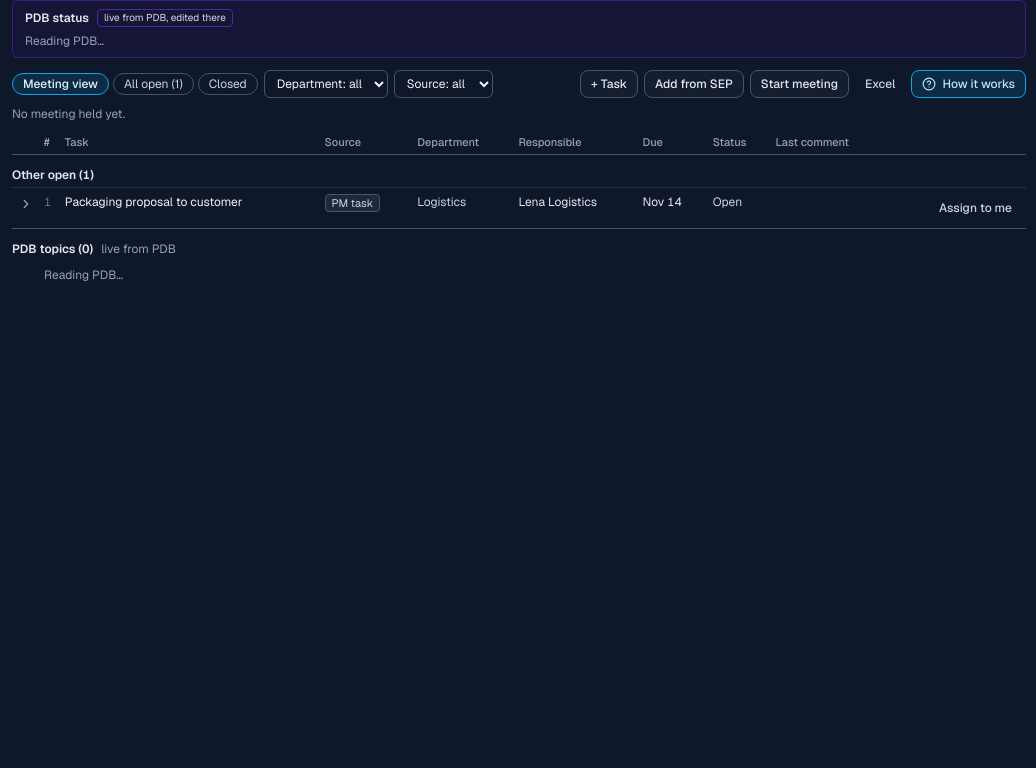
Test: LOP equipment › a new task is linked to a gauge without a hint, and to a tool with the PDB hint
Later steps or results of the test are not shown.
Click the button "+ Task". click: (609, 84)
box: [580, 70, 638, 98]
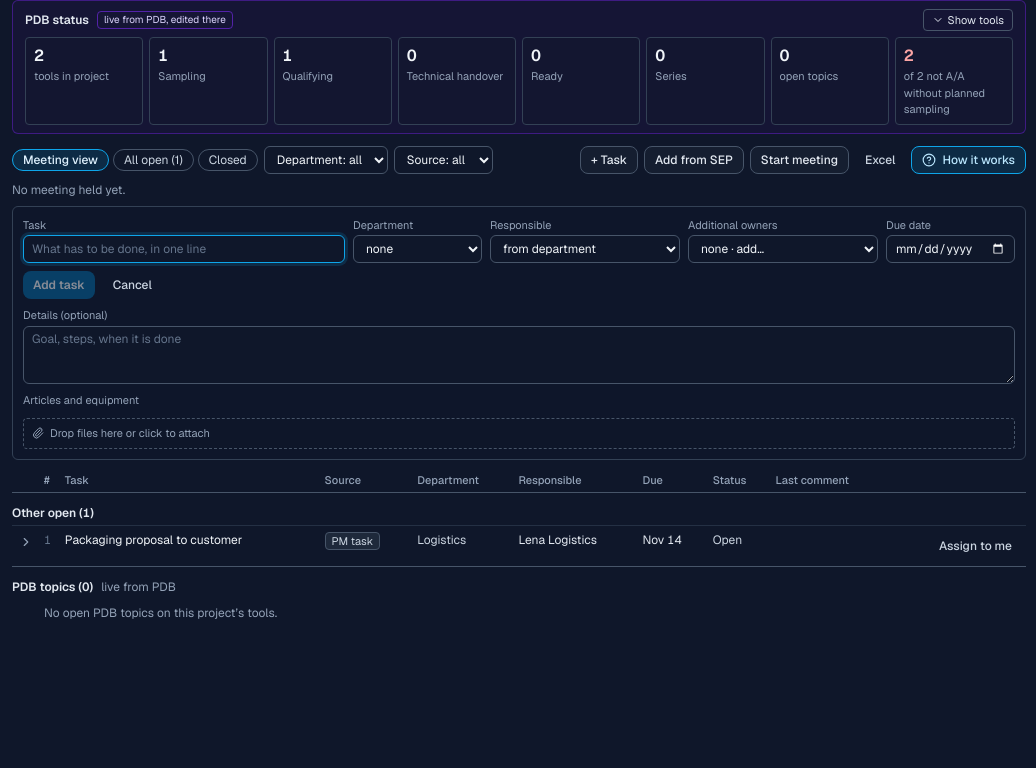
Type "Gauge R&R" into the field labelled "Task". click: (184, 249)
box: [23, 235, 345, 263]
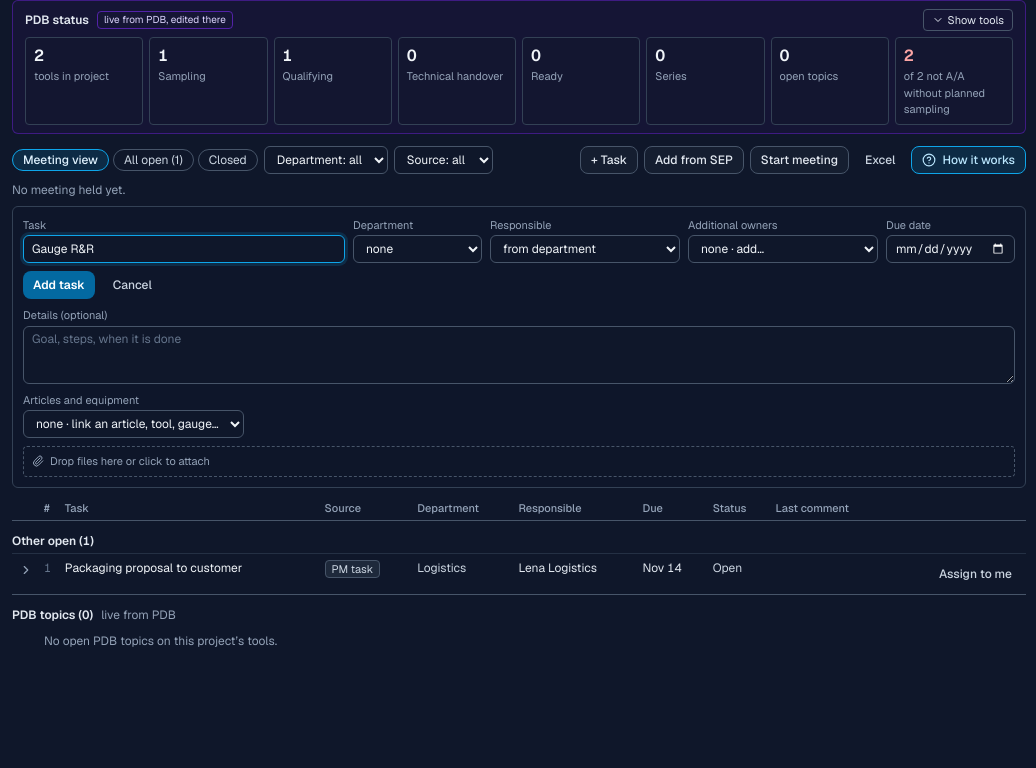
Select "3345-40 · Gauge UBV Mitte" in the dropdown named "Link equipment". click: (134, 424)
box: [23, 410, 244, 438]
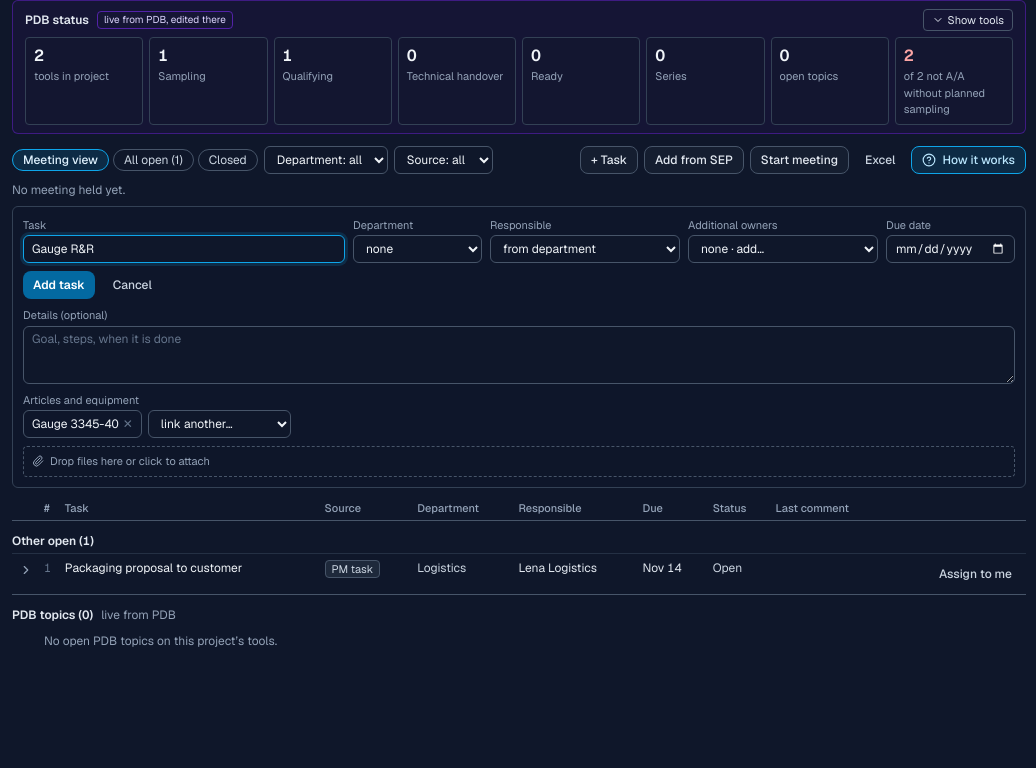
Select "3345 · UBV Mitte" in the dropdown named "Link equipment". click: (219, 424)
box: [148, 410, 291, 438]
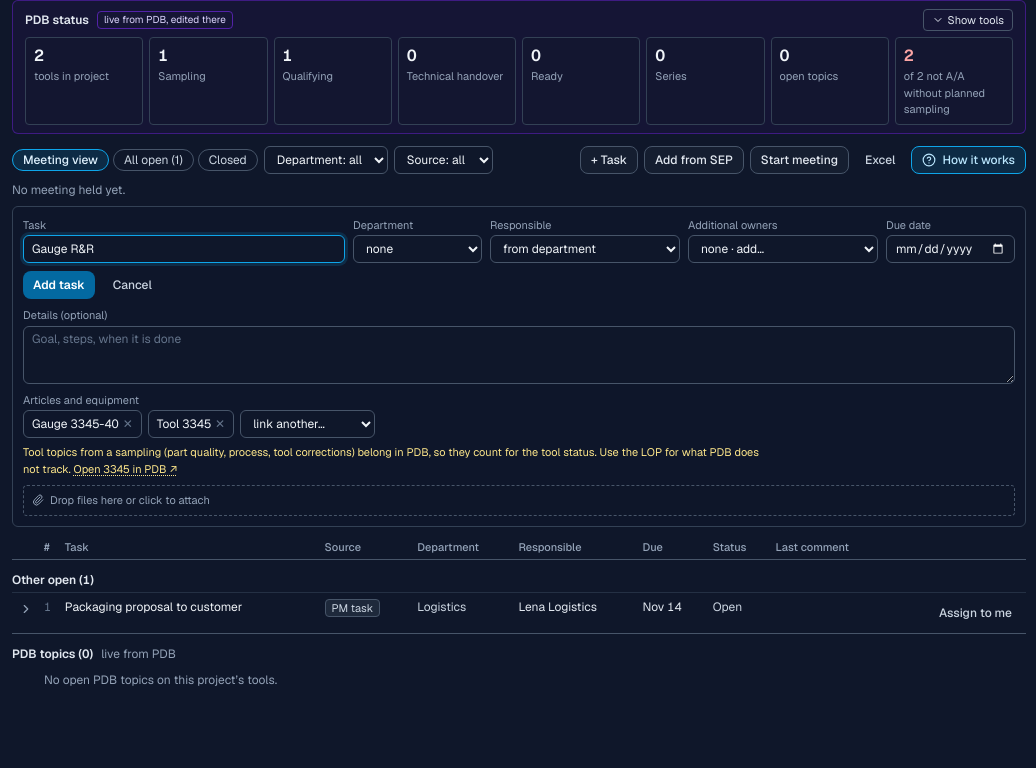
Now the element with test id "lop-tool-hint" shows "belong in PDB", box [23, 445, 759, 476]
Click the button named "Remove Tool 3345". click: (220, 424)
box: [215, 416, 225, 432]
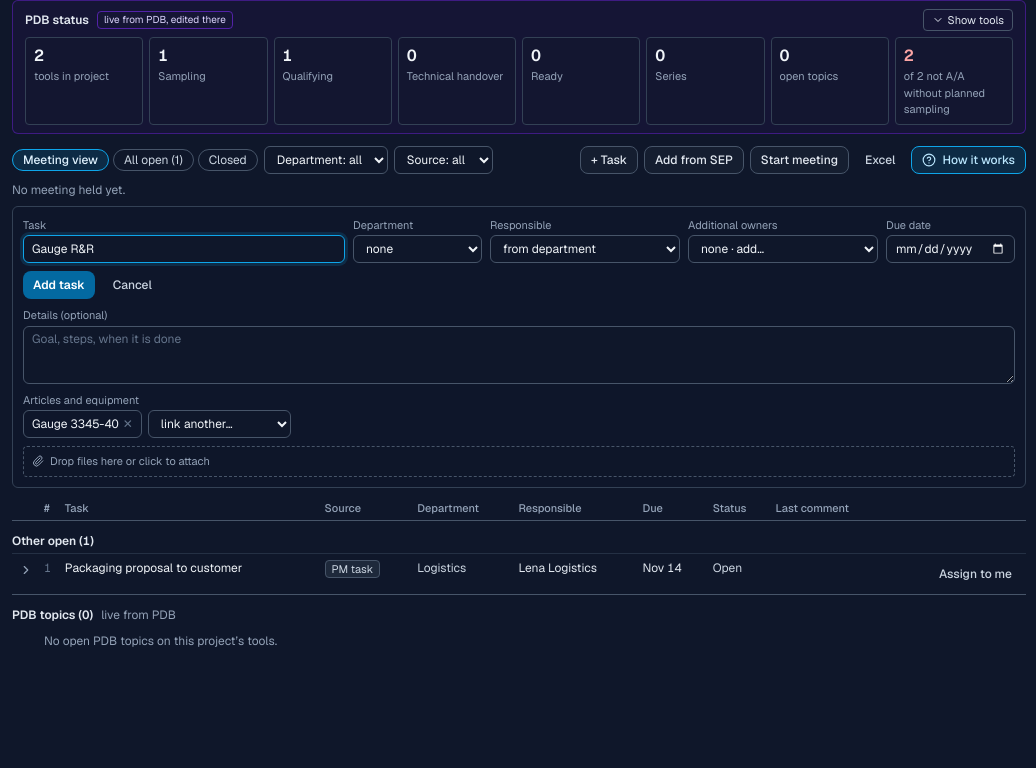
Now the element with test id "lop-tool-hint" is gone
